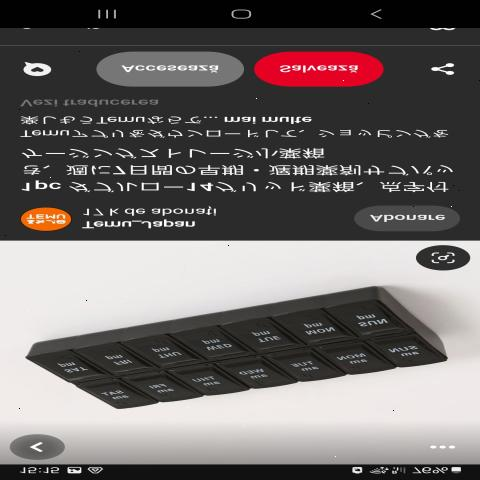PillBox: (20, 272, 461, 420)
